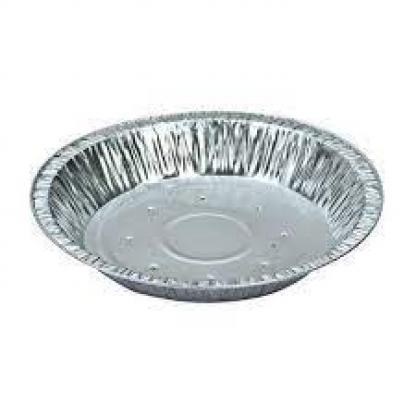METAL: (28, 109, 382, 301)
